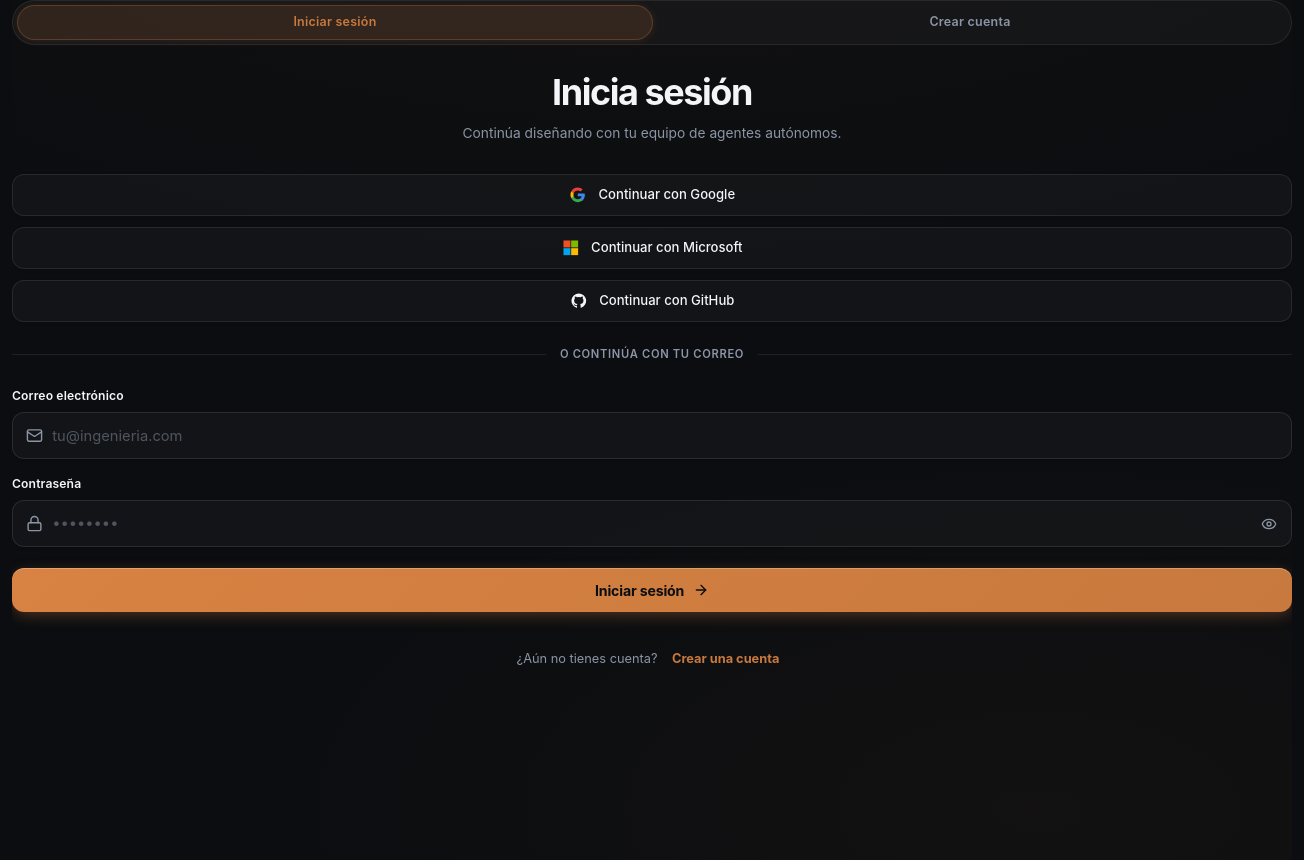
Test case: AuthForm › reveals and validates the sign-up-only fields after resetting the form
In the field labelled "Correo electrónico": (652, 436) left=12, top=412, right=1292, bottom=459, type "old@example.com"
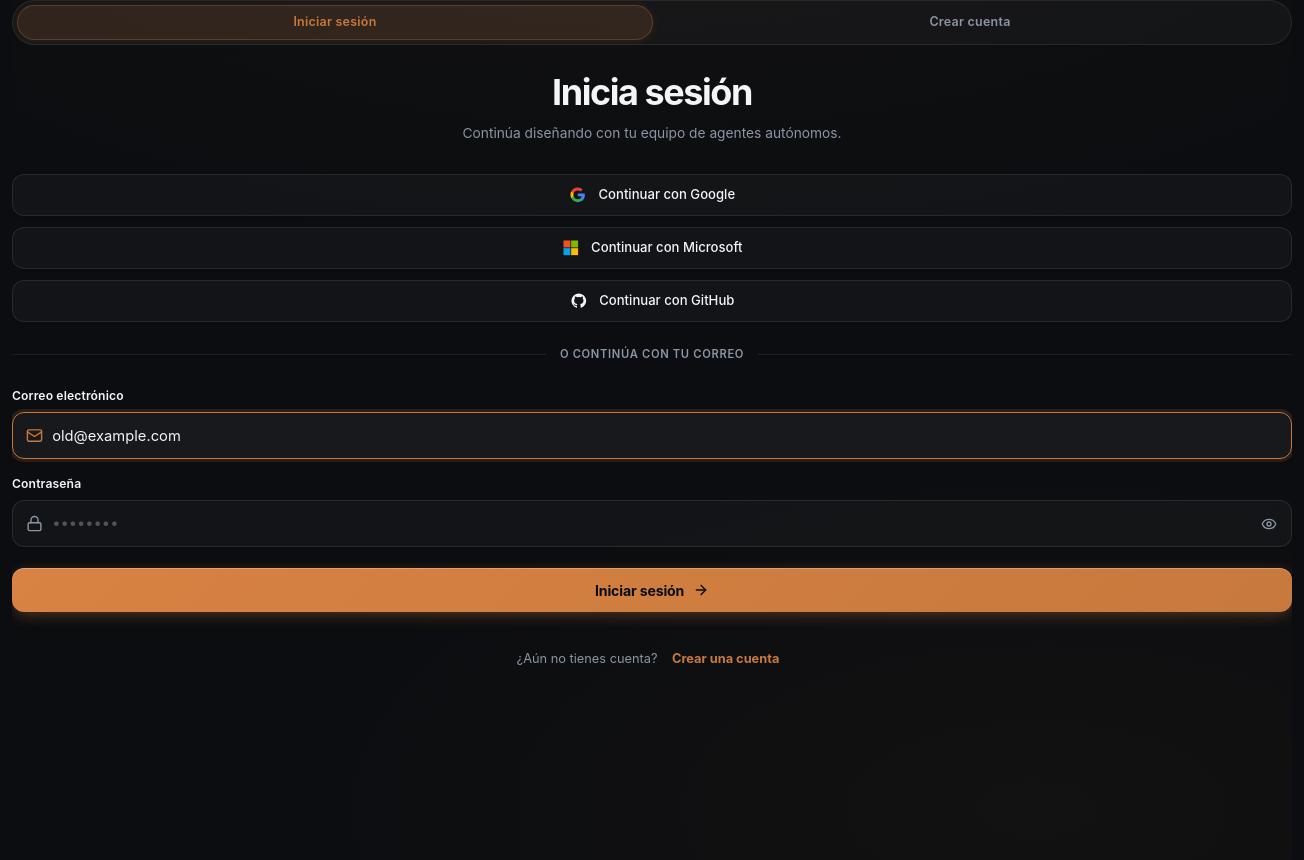
Click the button "Crear una cuenta": click(726, 658) left=664, top=636, right=787, bottom=680
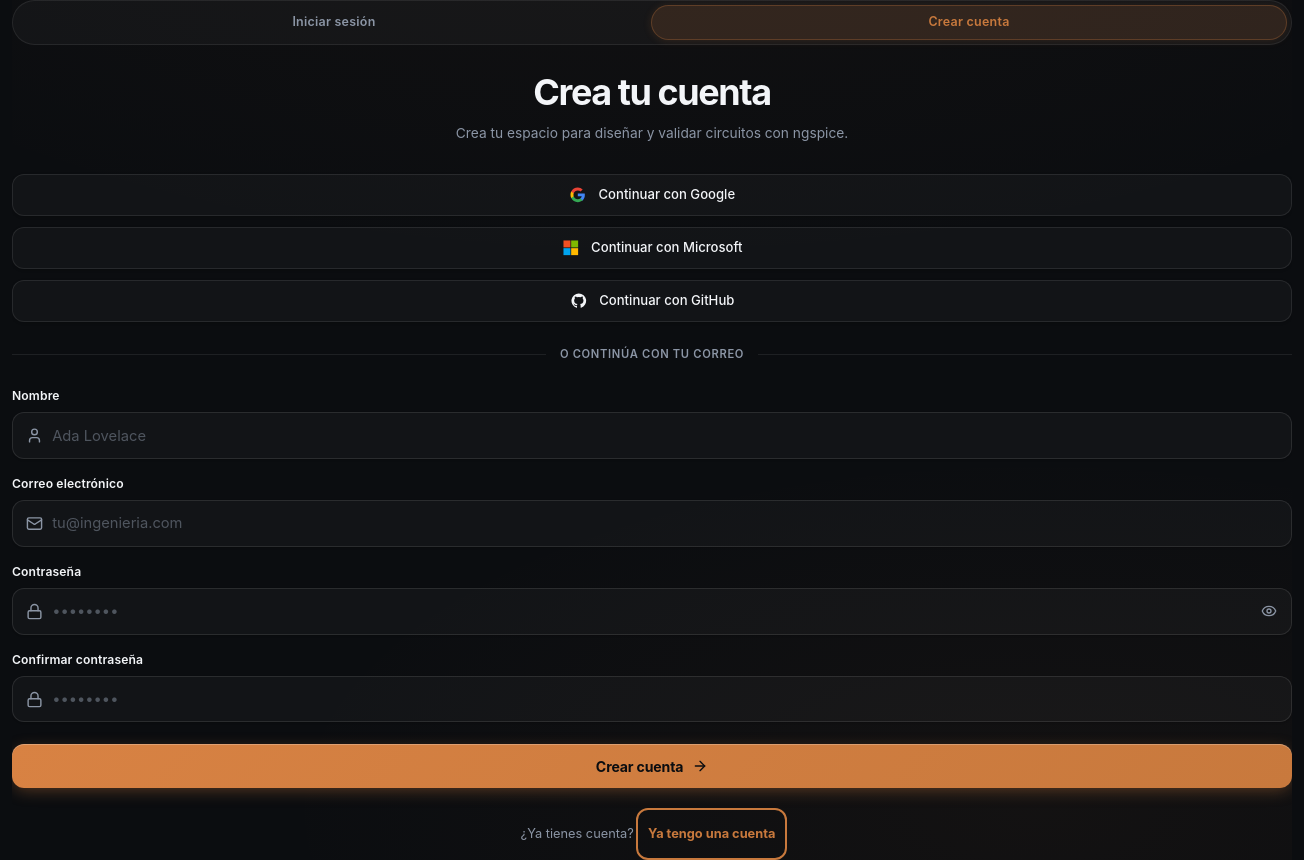
Result: the field labelled "Nombre" is empty at left=12, top=412, right=1292, bottom=459
Result: the field labelled "Correo electrónico" is empty
Result: the password field labelled "Confirmar contraseña" is shown at left=12, top=676, right=1292, bottom=722
In the field labelled "Correo electrónico": (652, 524) left=12, top=500, right=1292, bottom=547, type "ada@example.com"
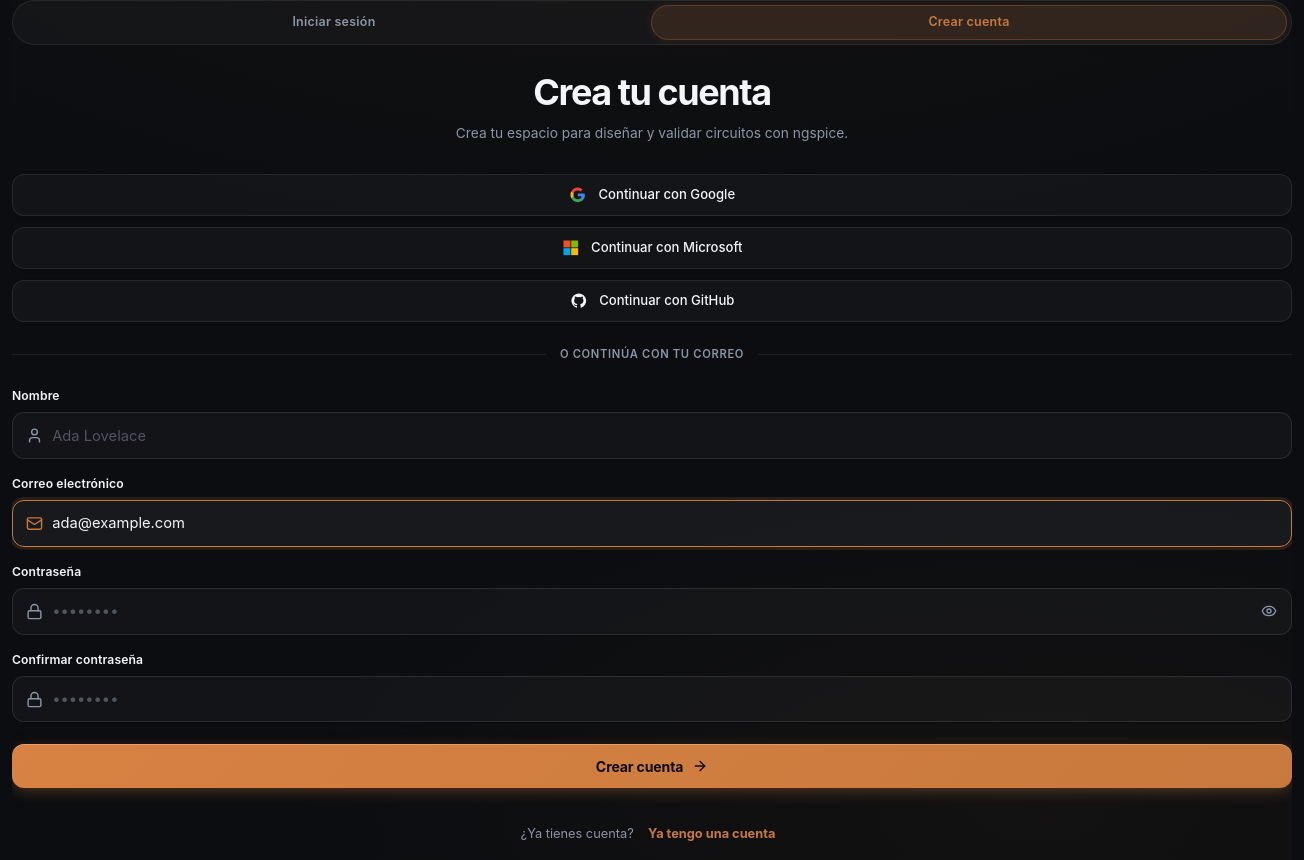
In the password field labelled "Contraseña": (652, 611) left=12, top=588, right=1292, bottom=635, type "password123"
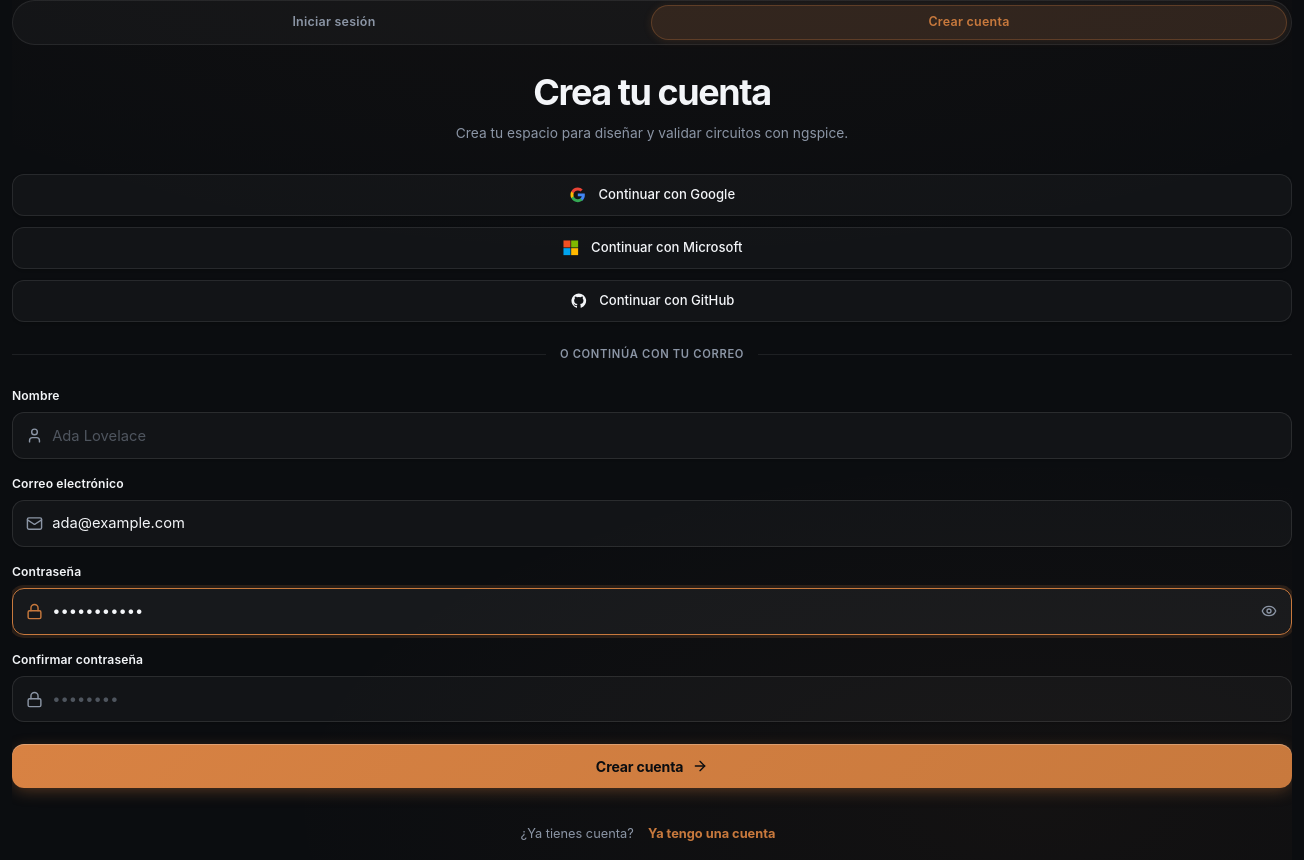
In the password field labelled "Confirmar contraseña": (652, 699) left=12, top=676, right=1292, bottom=722, type "different123"
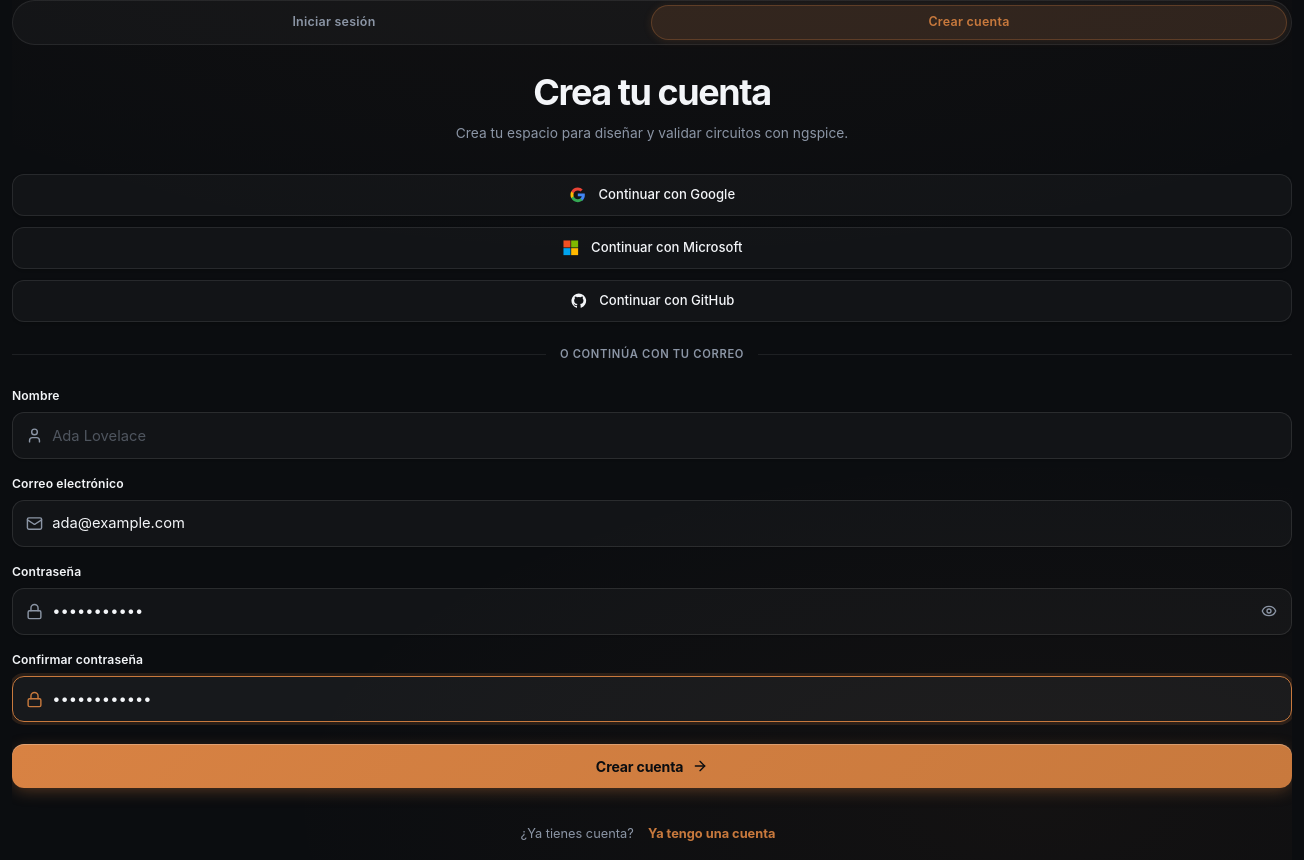
Click the button "Crear cuenta": click(652, 766) left=12, top=744, right=1292, bottom=788
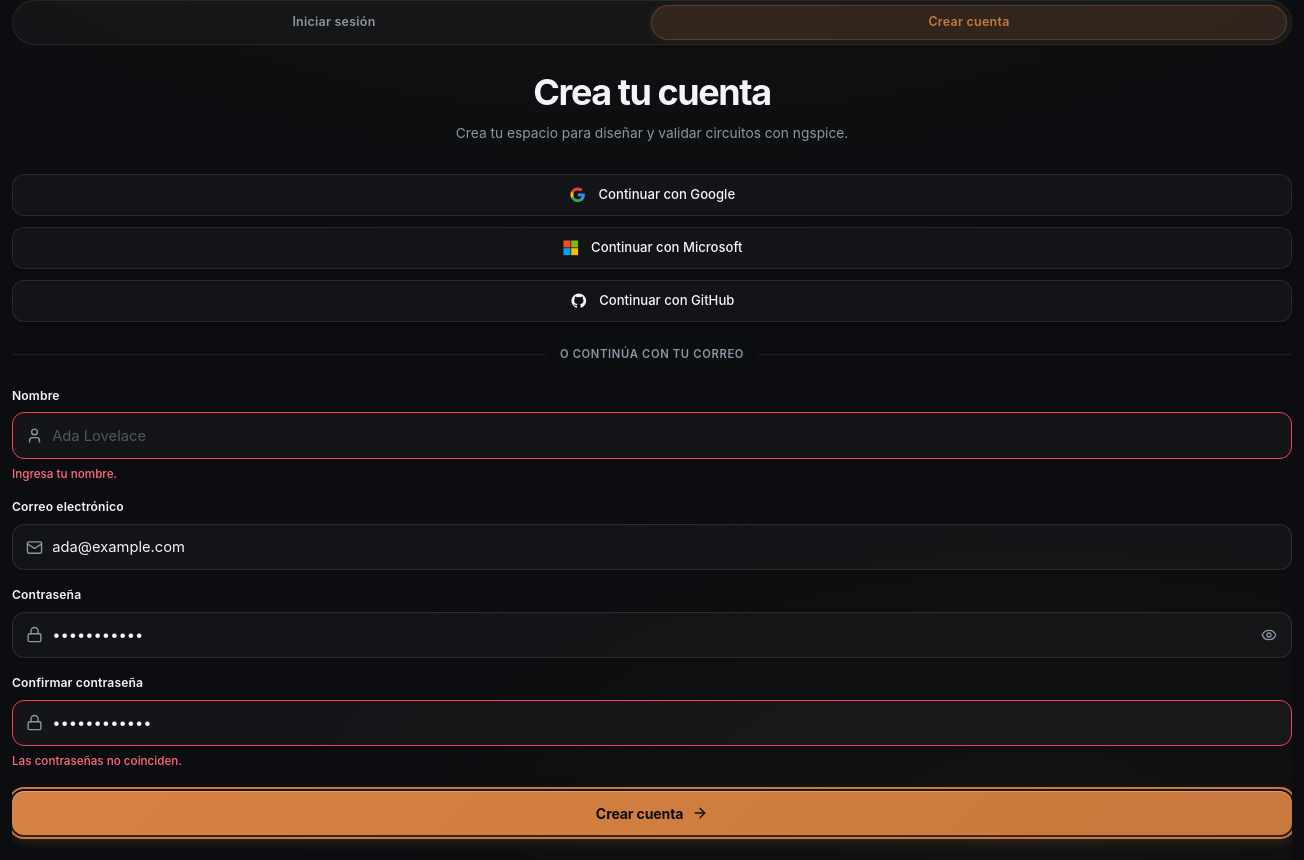
Result: the text "Ingresa tu nombre." is shown at left=12, top=467, right=117, bottom=481
Result: the text "Las contraseñas no coinciden." is shown at left=12, top=754, right=182, bottom=768
